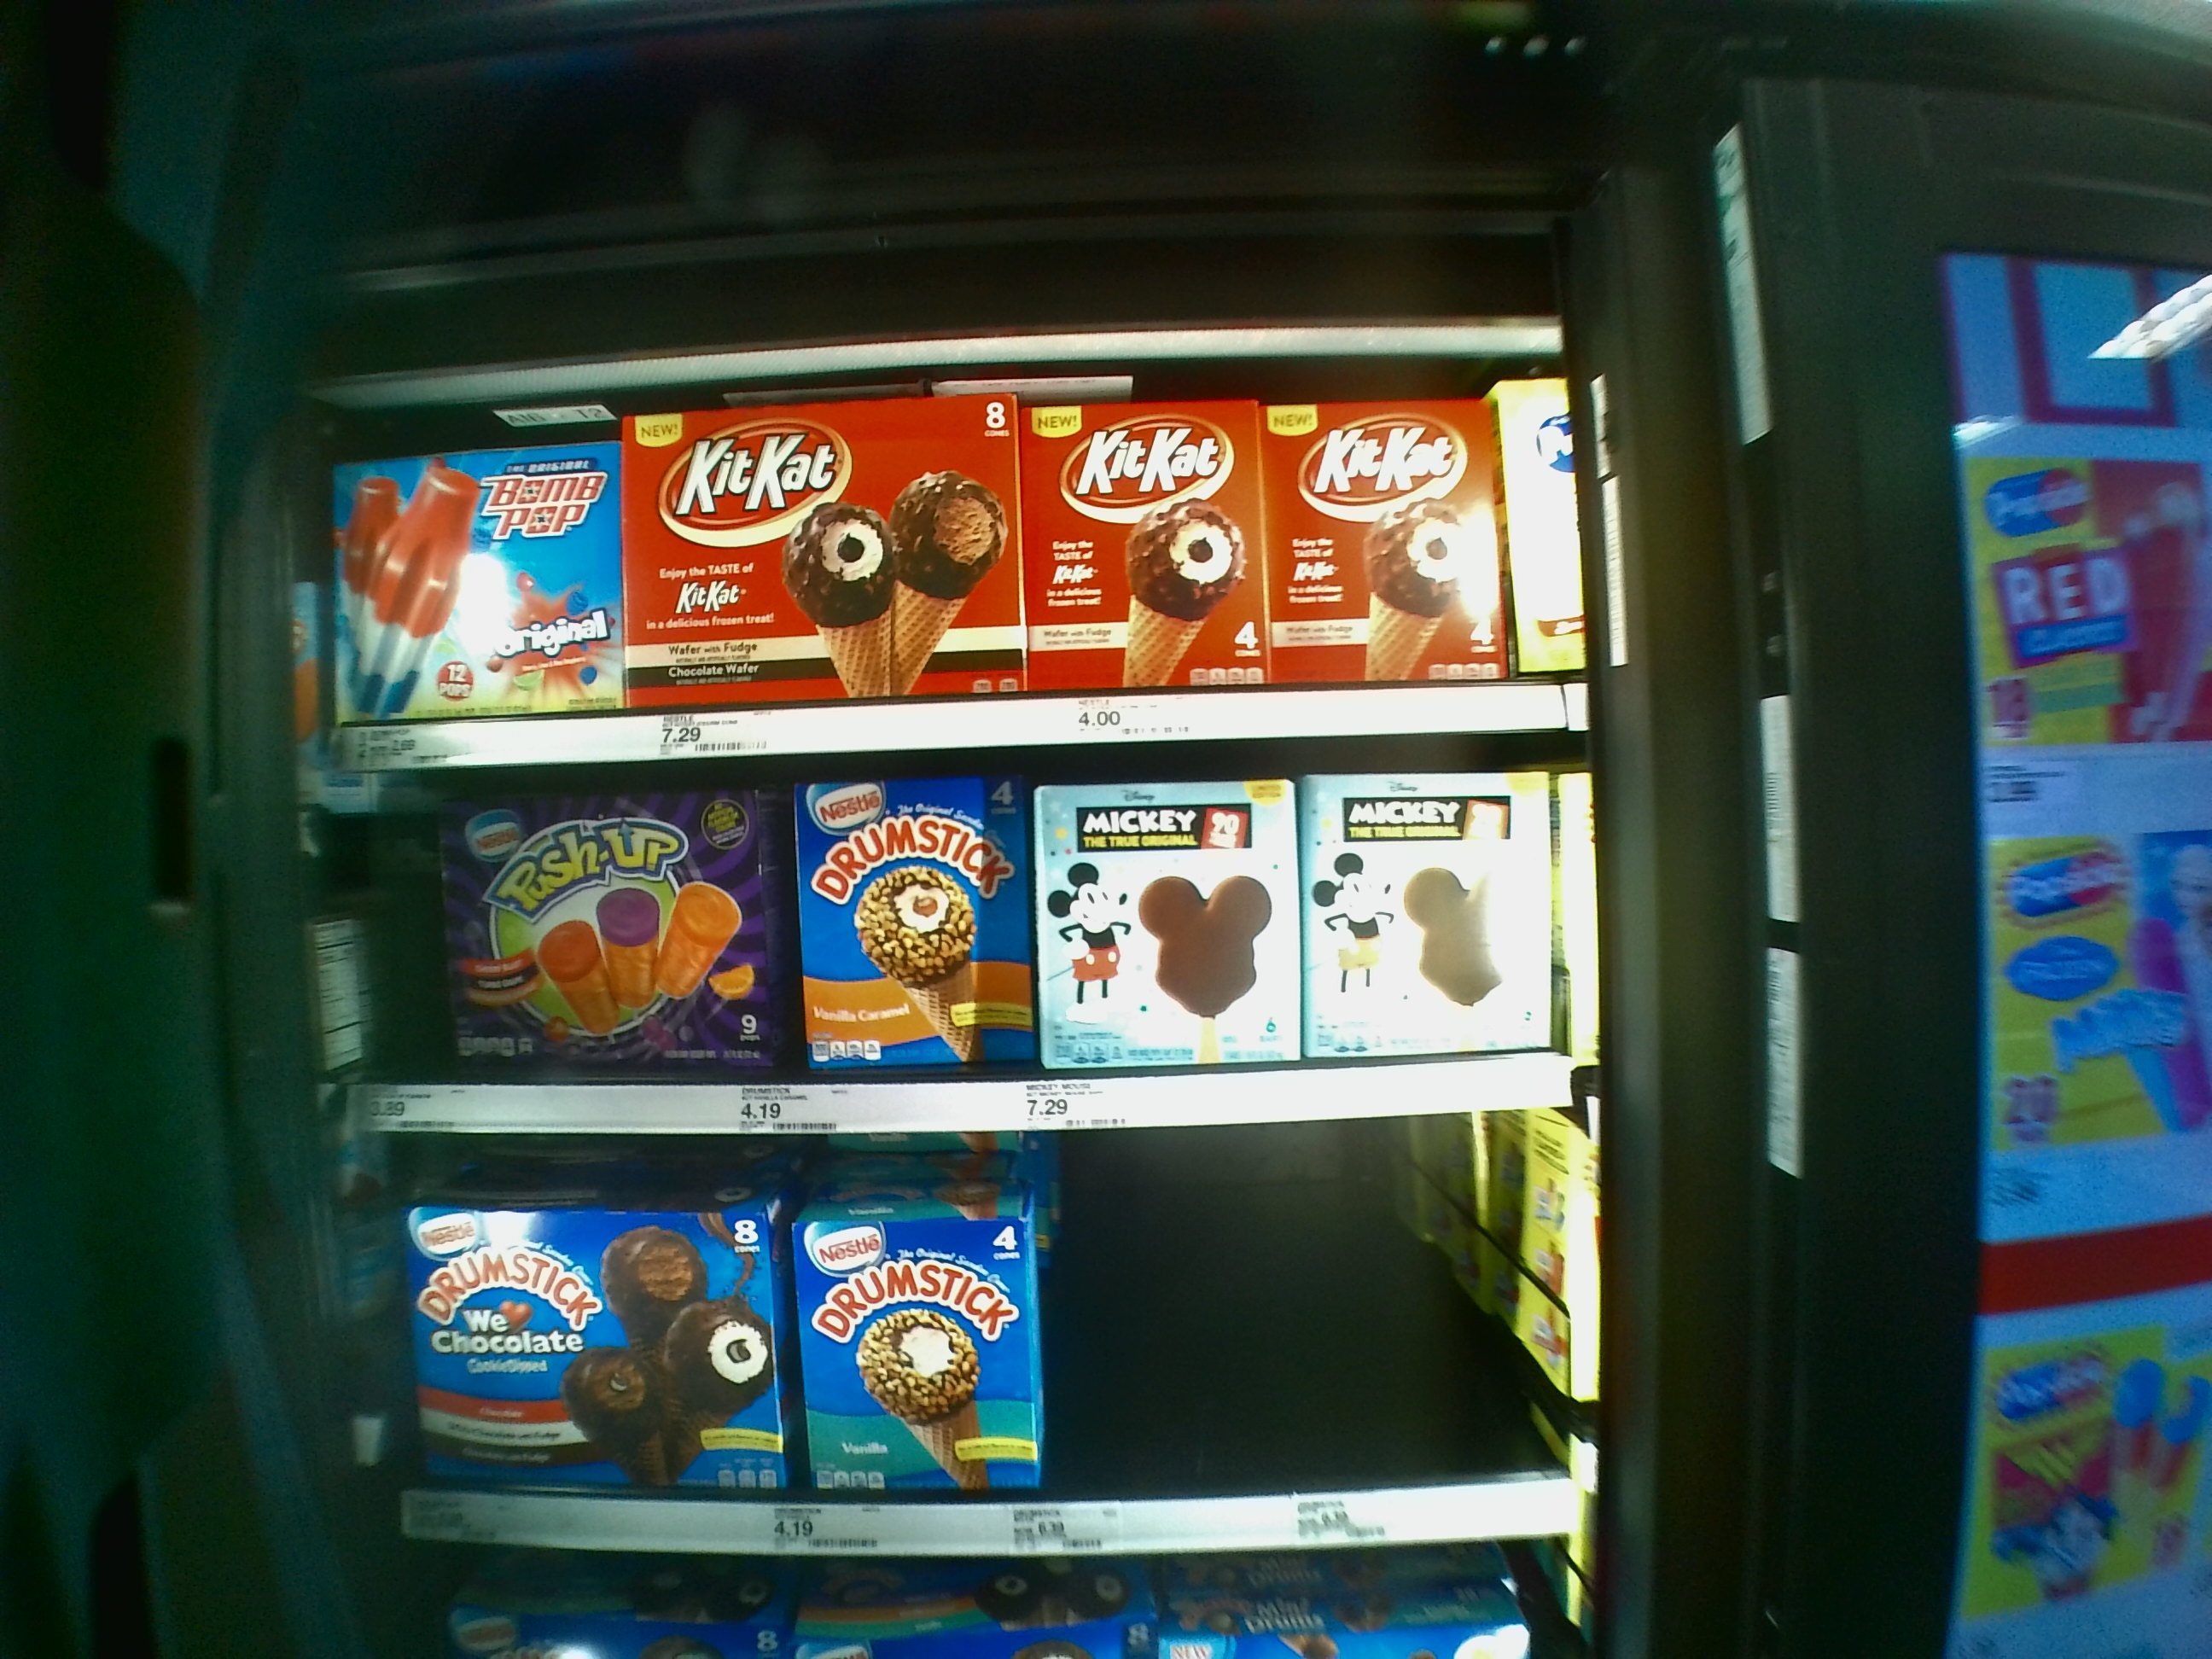shelf: (314, 357, 1599, 767), (380, 1138, 1602, 1551), (352, 769, 1590, 1133)
